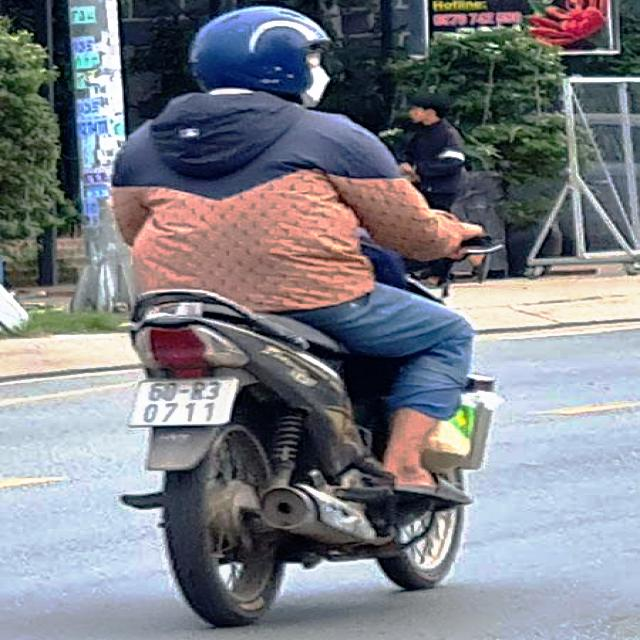license_plate: (133, 376, 239, 428)
